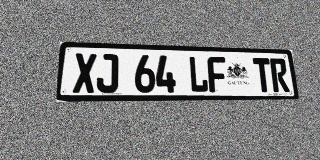4: (155, 55, 176, 93)
6: (135, 55, 155, 93)
F: (207, 57, 227, 92)
J: (96, 54, 118, 93)
L: (188, 56, 209, 92)
R: (269, 58, 290, 92)
T: (253, 58, 273, 92)
X: (73, 53, 96, 93)
